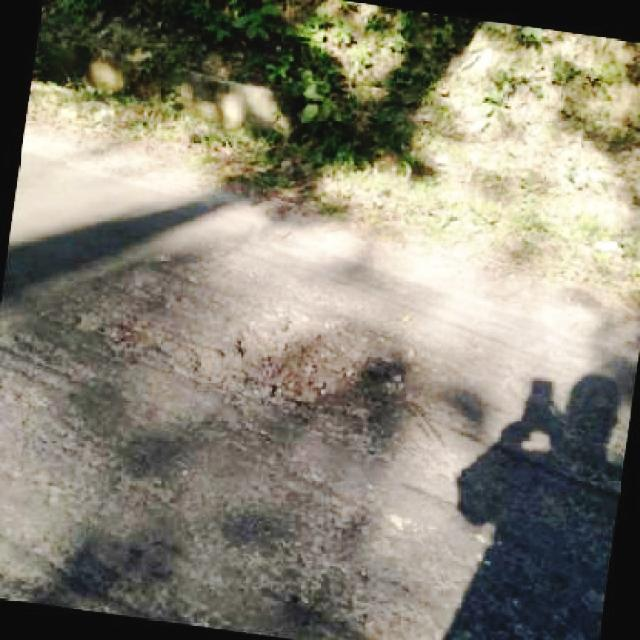pothole: (237, 303, 374, 414), (72, 302, 230, 386), (292, 554, 443, 640)
